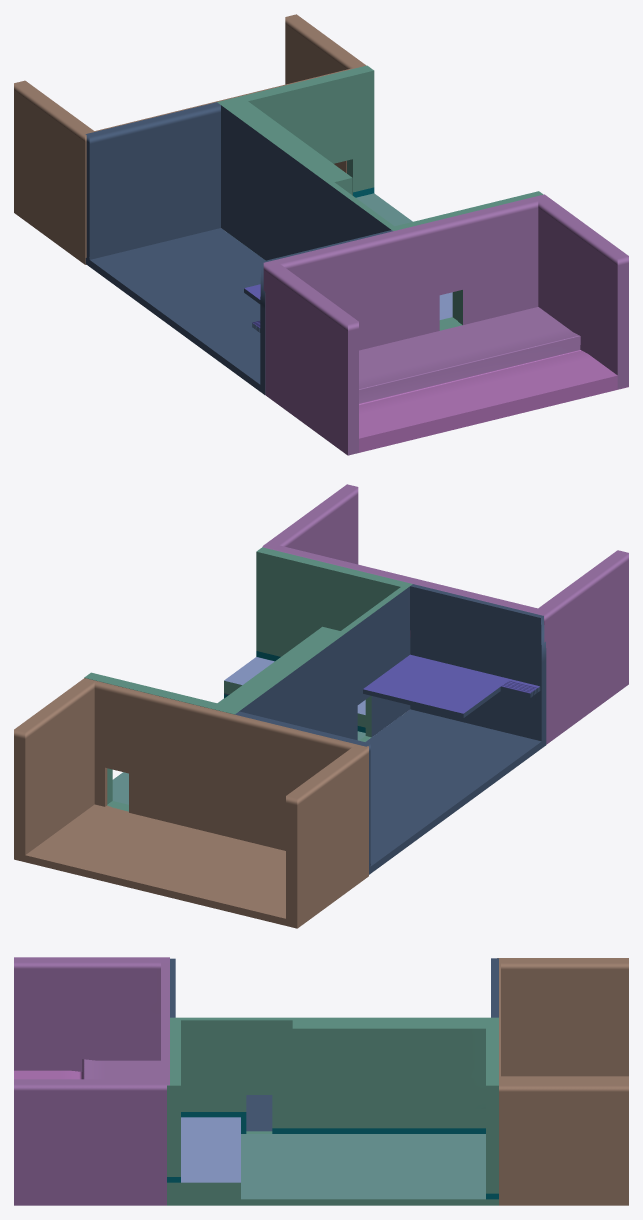
The model's file is rooms_1.glb.
The picture shows the model from 3 angles, top to bottom: view 1: azimuth 30°, elevation 25°; view 2: azimuth 150°, elevation 25°; view 3: azimuth 270°, elevation 25°; orthographic projection. The views are drawn at different scales.
Parts seen in each view (by area): view 1: polySurface1, polySurface4, polySurface7, polySurface8; view 2: polySurface8, polySurface4, polySurface7, polySurface1; view 3: polySurface7, polySurface1, polySurface8, polySurface4.
Part boxes in pixels (x1,y1,x2,y2): polySurface1: (263,194,628,455); polySurface4: (85,102,392,394); polySurface7: (217,65,543,325); polySurface8: (14,14,366,264); polySurface8: (14,678,368,928); polySurface4: (235,584,546,874); polySurface7: (84,547,412,811); polySurface1: (262,484,628,744); polySurface7: (167,1017,498,1205); polySurface1: (14,957,169,1205); polySurface8: (497,958,628,1205); polySurface4: (170,958,498,1131).
Size of the model in its own units: 0.6186 by 0.2745 by 1.26.
